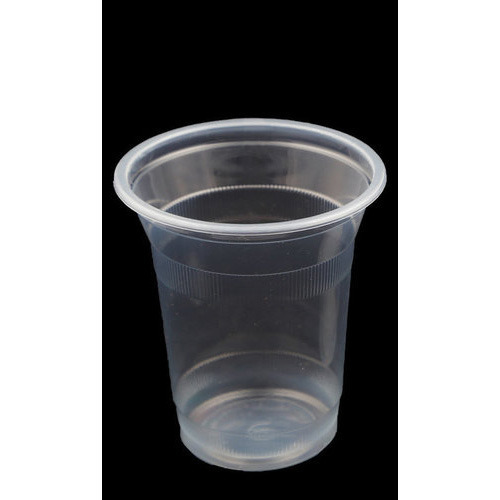plastic_glass: (111, 108, 393, 475)
